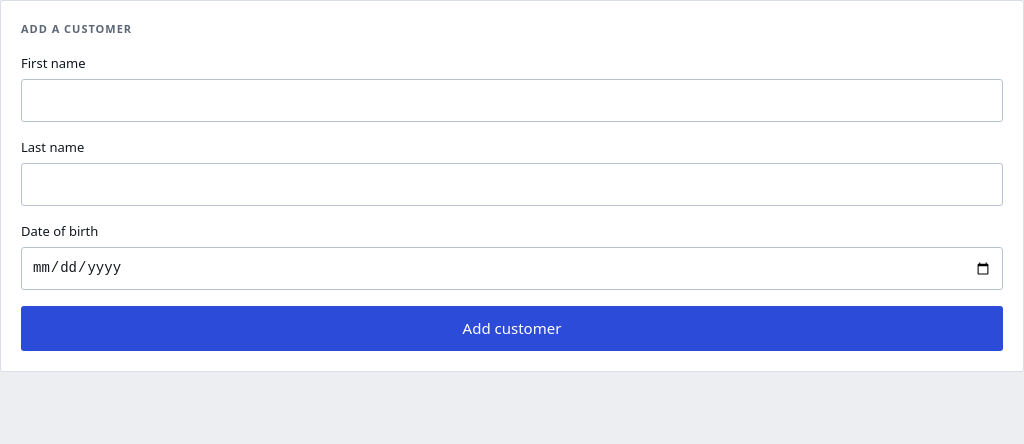
CustomerForm › explains a duplicate instead of showing a raw status code
In the field labelled "First name": [512, 100] box 21,79 -> 1003,122, type "Jane"
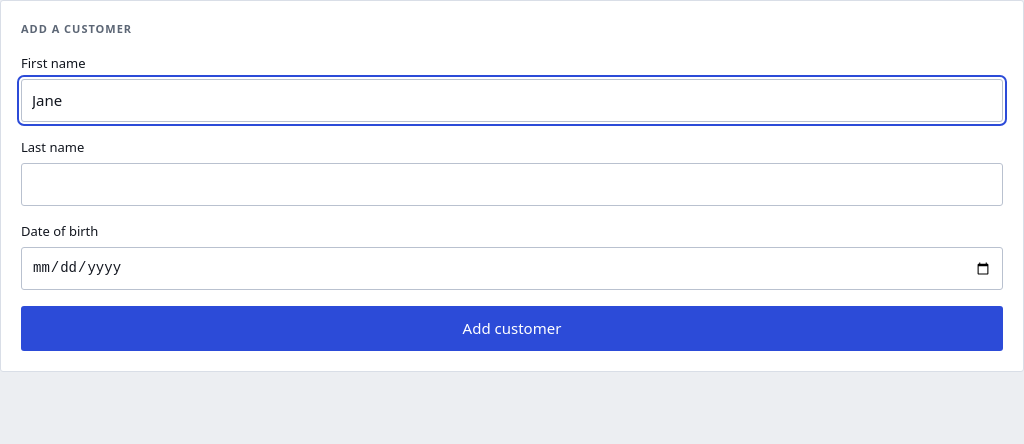
In the field labelled "Last name": [512, 184] box 21,163 -> 1003,206, type "Doe"
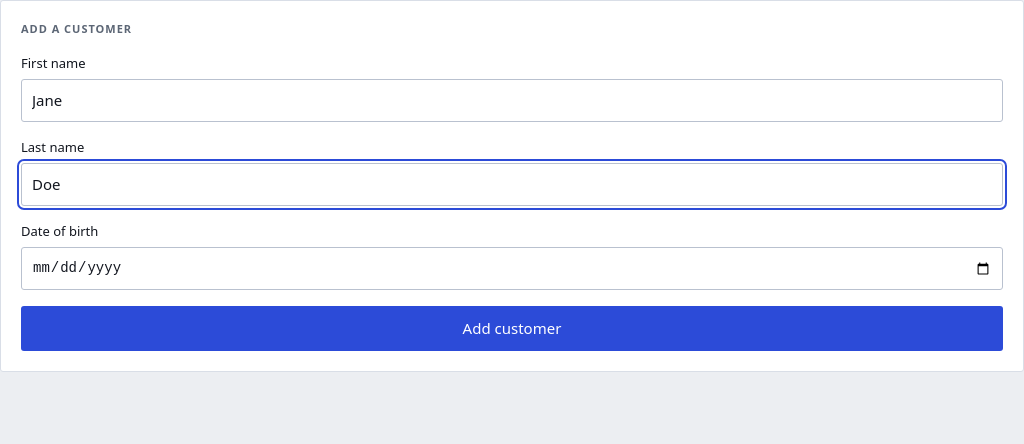
In the date field labelled "Date of birth": [512, 268] box 21,247 -> 1003,290, type "1990-04-17"
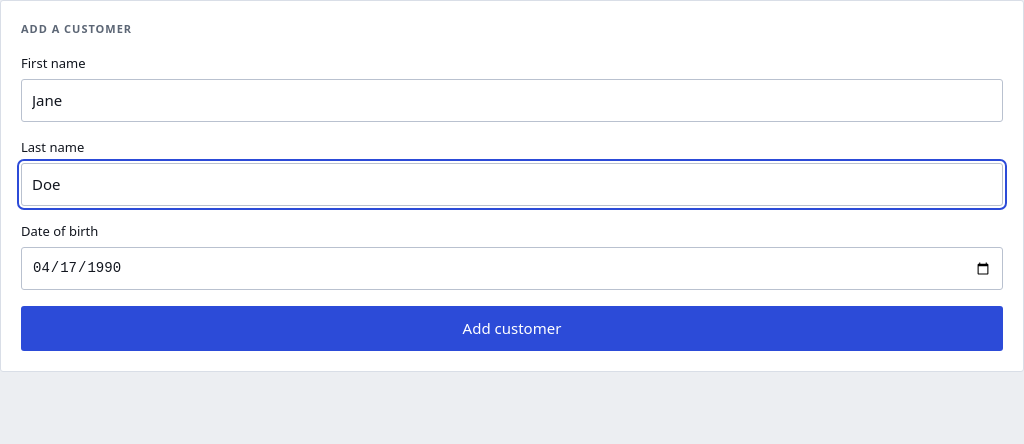
Click the button "Add customer": [512, 328] box 21,306 -> 1003,350
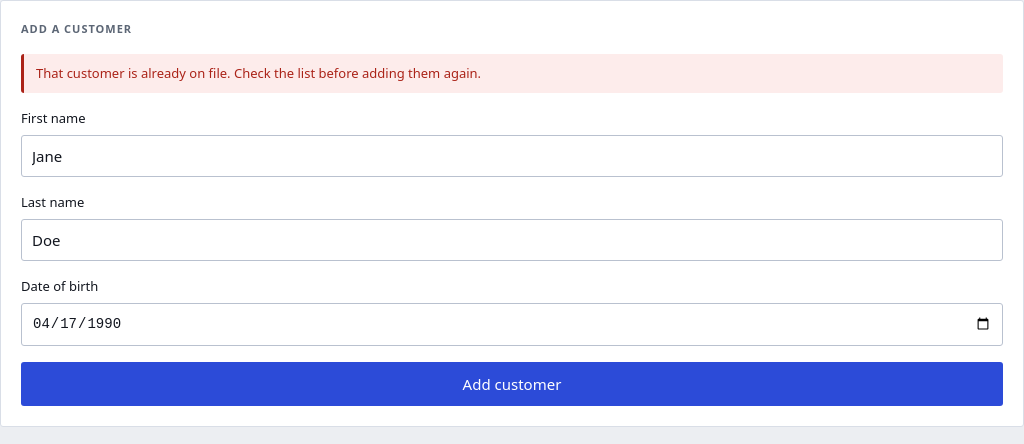
Now the message shows "already on file", box 36,64 -> 481,82
